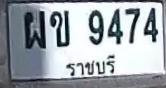4: (107, 8, 122, 44), (143, 7, 157, 42)
7: (124, 7, 139, 43)
9: (88, 9, 104, 44)
A02: (49, 9, 69, 46)
A28: (23, 10, 45, 48)
RBR: (61, 53, 123, 79)
